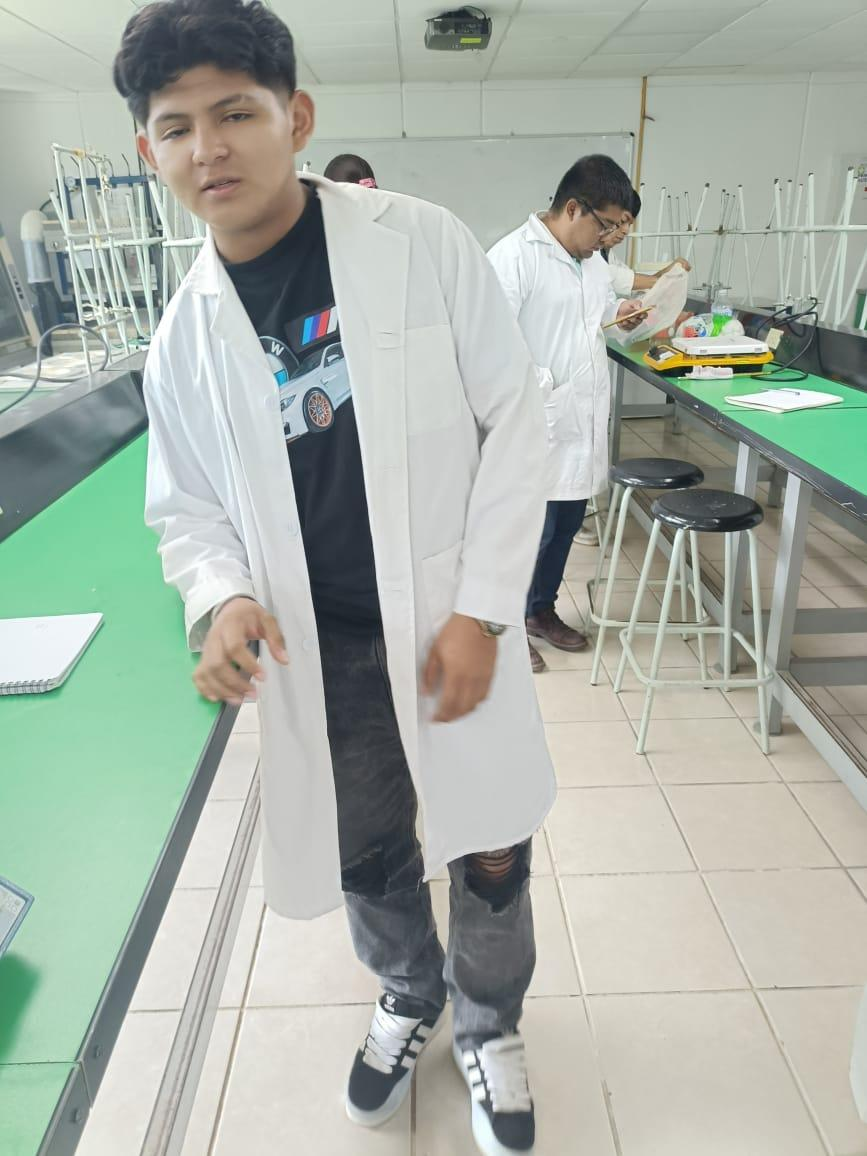Bata-Incorrecta: (114, 0, 554, 1155)
